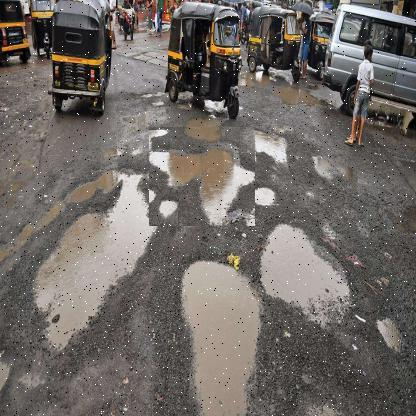pothole_water: (253, 214, 371, 348), (173, 247, 266, 411)
pothole_water_m: (149, 127, 256, 227)
